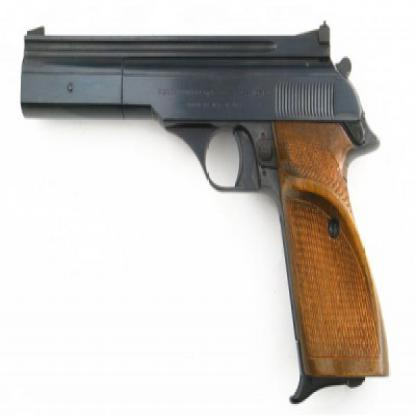Guns: (17, 17, 390, 404)
